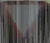Give way: (1, 2, 43, 42)
